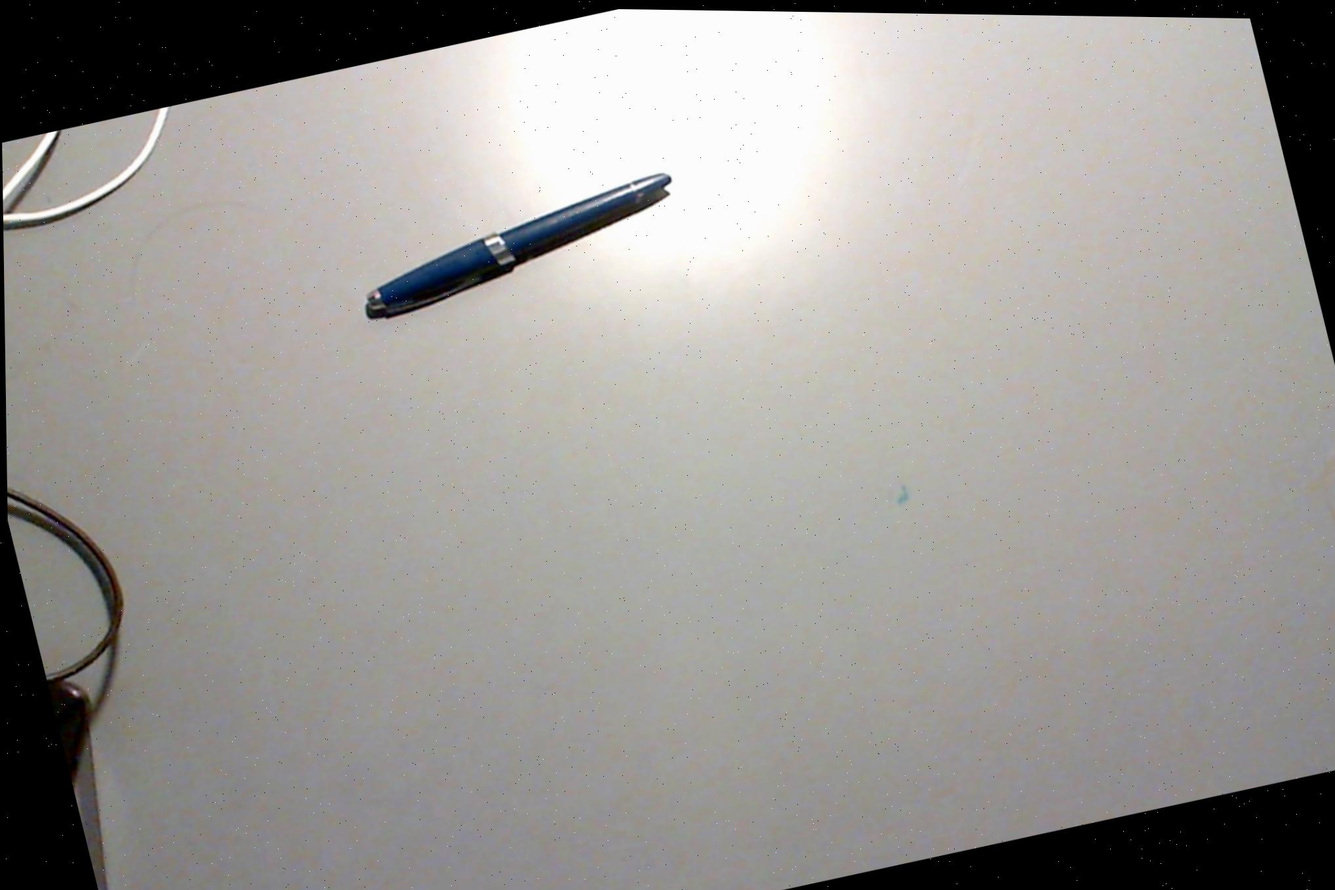pen-pencil: (363, 172, 672, 320)
